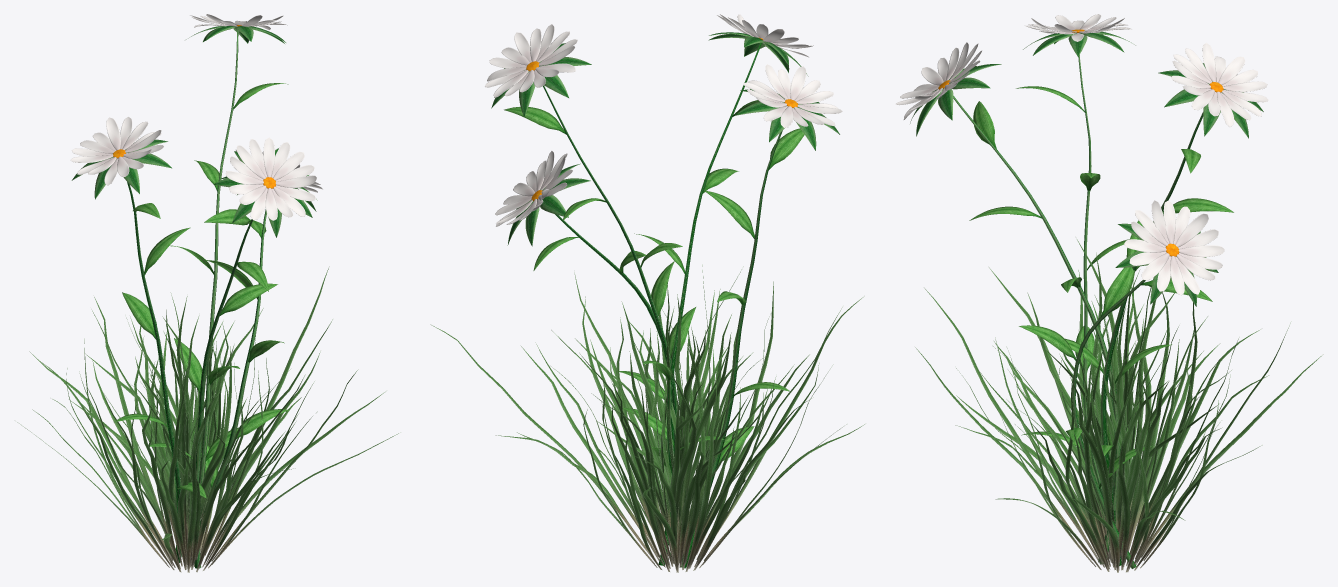
The model's file is white_flower.glb.
3 views of the same model, side by side, from view 1: azimuth 30°, elevation 25°; view 2: azimuth 150°, elevation 25°; view 3: azimuth 270°, elevation 25° (orthographic). The views are drawn at different scales.
Visible parts, largest first — view 1: longe_grass, white_flower; view 2: longe_grass, white_flower; view 3: longe_grass, white_flower.
Part boxes in pixels (bbox=[...]): longe_grass: bbox=[17, 266, 400, 572]; white_flower: bbox=[70, 14, 322, 568]; longe_grass: bbox=[430, 264, 864, 572]; white_flower: bbox=[485, 14, 842, 568]; longe_grass: bbox=[915, 239, 1323, 572]; white_flower: bbox=[896, 14, 1268, 568].
Size of the model in its own units: 59.98 by 81.64 by 57.29.
5 materials, 5 textured.
